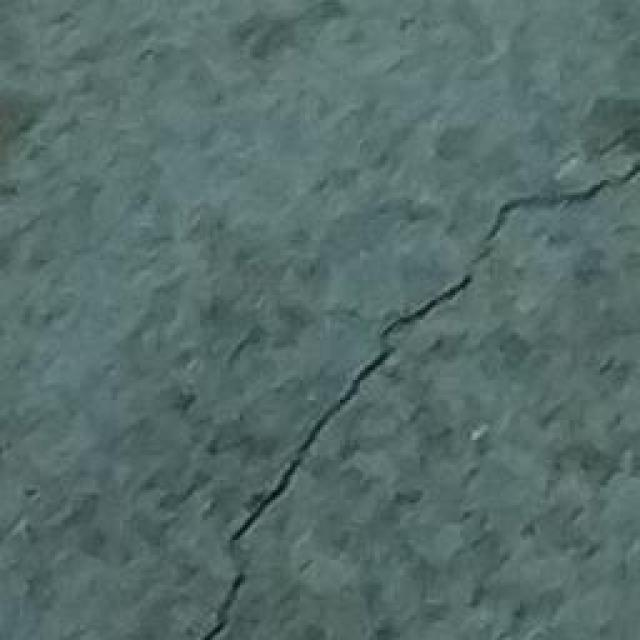Diagonal: (208, 158, 640, 640)
